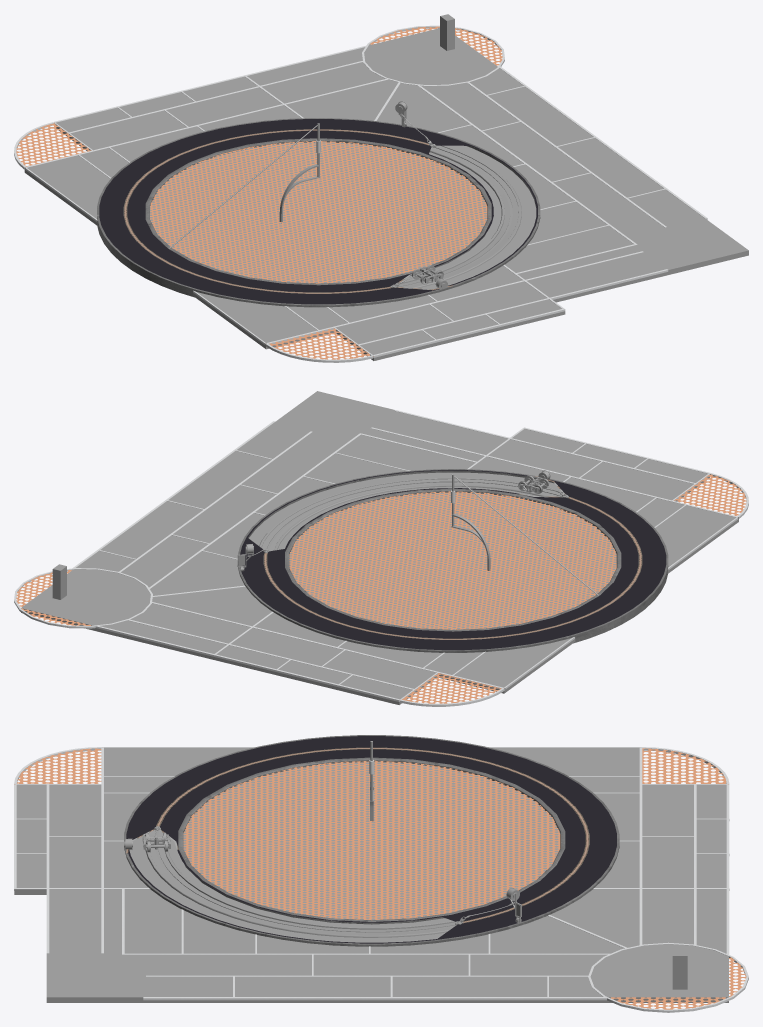
File: Blender Floor.fbx
The picture shows the model from 3 angles, top to bottom: view 1: azimuth 30°, elevation 25°; view 2: azimuth 150°, elevation 25°; view 3: azimuth 270°, elevation 25°; orthographic projection. The views are drawn at different scales.
Parts seen in each view (by area): view 1: pCube130, polySurface72, Cloth1, pCube131, Circle1, pCube132, Center_Rail, polySurface71, Zipper, polySurface96, polySurface97, pCube65 (×2) (+6 smaller); view 2: pCube130, polySurface72, Cloth1, pCube131, Circle1, Center_Rail, polySurface71, pCube132, Zipper, polySurface96, polySurface97, pCube65 (+7 smaller); view 3: pCube130, polySurface72, Cloth1, pCube131, Center_Rail, polySurface71, pCube132, Circle1, Zipper, NormalGirder3, polySurface96, polySurface97 (+8 smaller).
Boxes of the visible parts, box(x1,y1,x2,y2) form: pCube130: box(56, 28, 748, 349); polySurface72: box(150, 141, 487, 283); Cloth1: box(99, 119, 537, 304); pCube131: box(24, 151, 334, 349); Circle1: box(97, 118, 540, 307); pCube132: box(359, 299, 565, 360); Center_Rail: box(398, 145, 521, 288); polySurface71: box(145, 138, 491, 285); Zipper: box(123, 129, 452, 293); polySurface96: box(16, 123, 91, 166); polySurface97: box(269, 328, 373, 359); pCube65 (×2): box(54, 46, 563, 357); pCube130: box(21, 391, 695, 704); polySurface72: box(289, 491, 616, 629); Cloth1: box(240, 470, 666, 650); pCube131: box(438, 501, 738, 693); Circle1: box(237, 469, 668, 652); Center_Rail: box(259, 477, 562, 551); polySurface71: box(285, 488, 621, 631); pCube132: box(512, 429, 709, 487); Zipper: box(263, 476, 642, 639); polySurface96: box(402, 673, 501, 703); polySurface97: box(674, 474, 746, 515); pCube65: box(95, 626, 399, 701); pCube130: box(46, 785, 728, 1002); polySurface72: box(183, 760, 560, 920); Cloth1: box(126, 736, 616, 943); pCube131: box(102, 747, 640, 785); Center_Rail: box(145, 829, 456, 937); polySurface71: box(178, 757, 565, 924); pCube132: box(14, 785, 46, 894); Circle1: box(124, 735, 619, 946); Zipper: box(126, 747, 589, 923); NormalGirder3: box(143, 997, 606, 1000); polySurface96: box(642, 748, 726, 783); polySurface97: box(17, 748, 101, 783).
Bounding box in the file's own units: 2631 × 543 × 2984.
